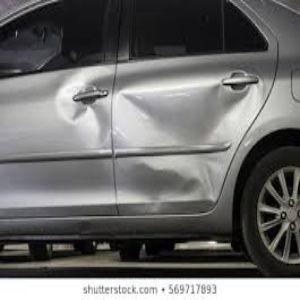front_windshield_glass: (130, 57, 274, 165)
